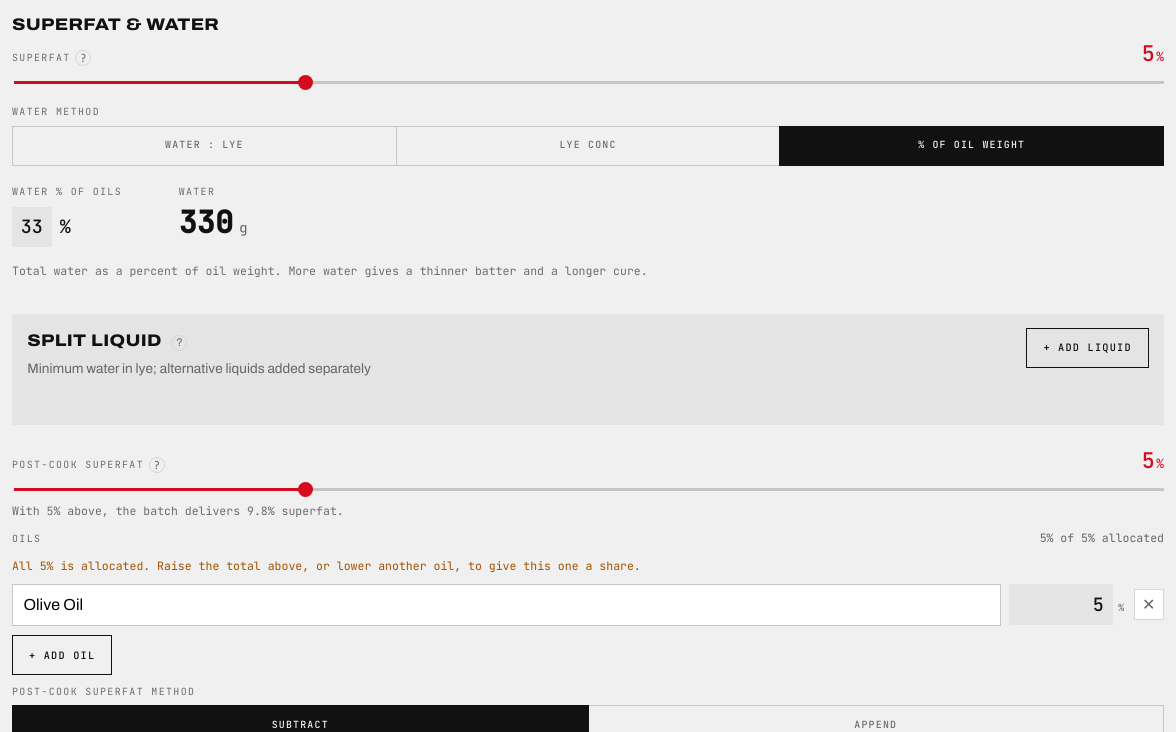
Scenario: Add oil appends a second post-cook superfat row
What coordinates should you click on to do the following:
click the button with aria-label "Add post-cook superfat oil"
I would click on:
 (62, 655)
Its box is [12, 635, 112, 675].
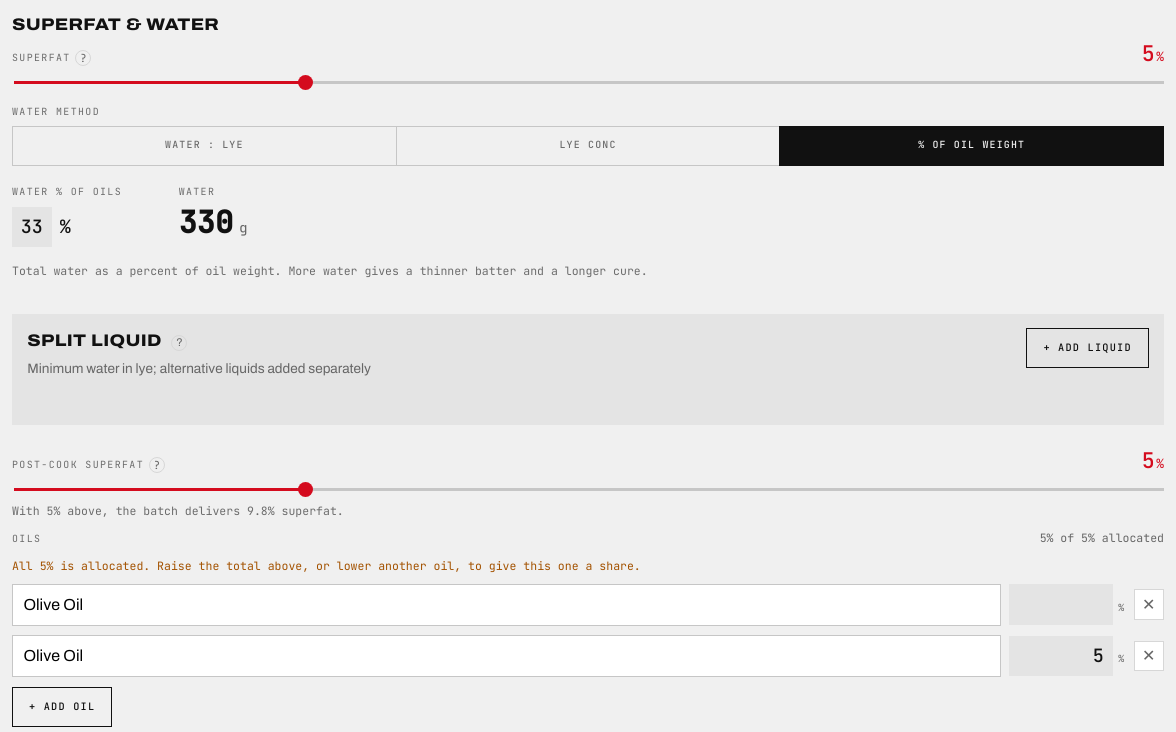
Result: the dropdown named "Post-cook superfat oil 2" is shown at [12, 635, 1001, 677]
Result: the number field named "Post-cook superfat % 2" is shown at [1009, 636, 1113, 676]
